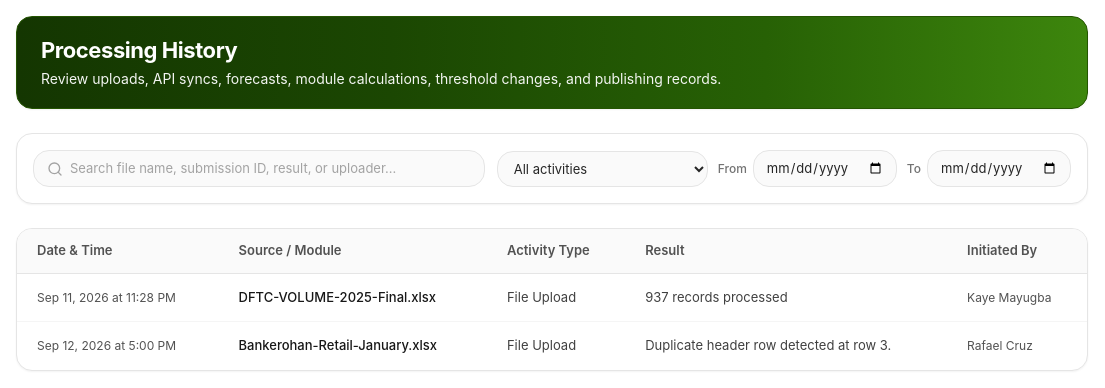
Test: AdminHistory search › matches on the file name
In the field with placeholder "Search file name, submission ID, result, or uploader...": (259,169) [33,150,485,187], type "volume"
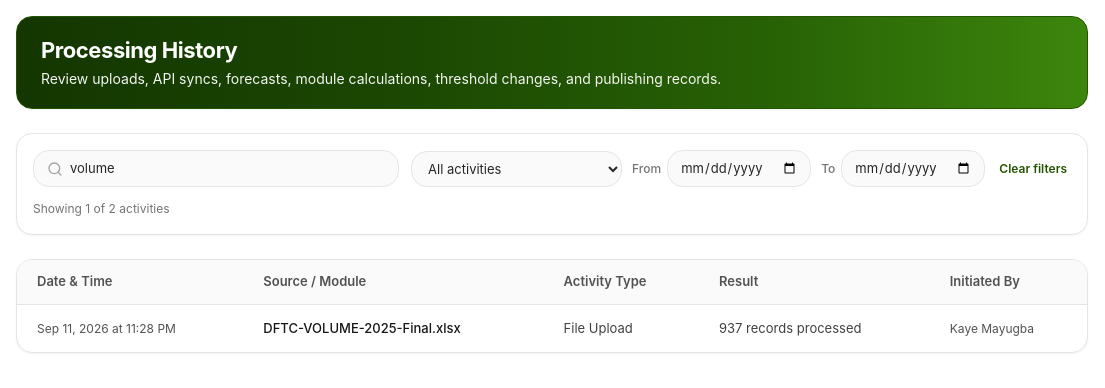
Expected: the text "Showing 1 of 2 activities" is shown, [33,201,170,216]
